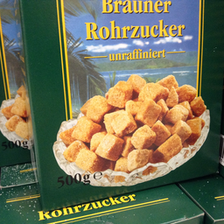sugar: (18, 1, 222, 212)
